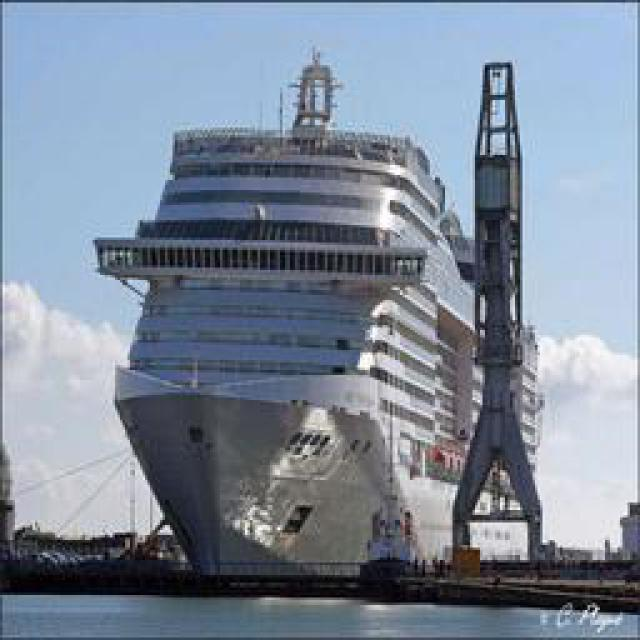Ship: (63, 71, 568, 599)
